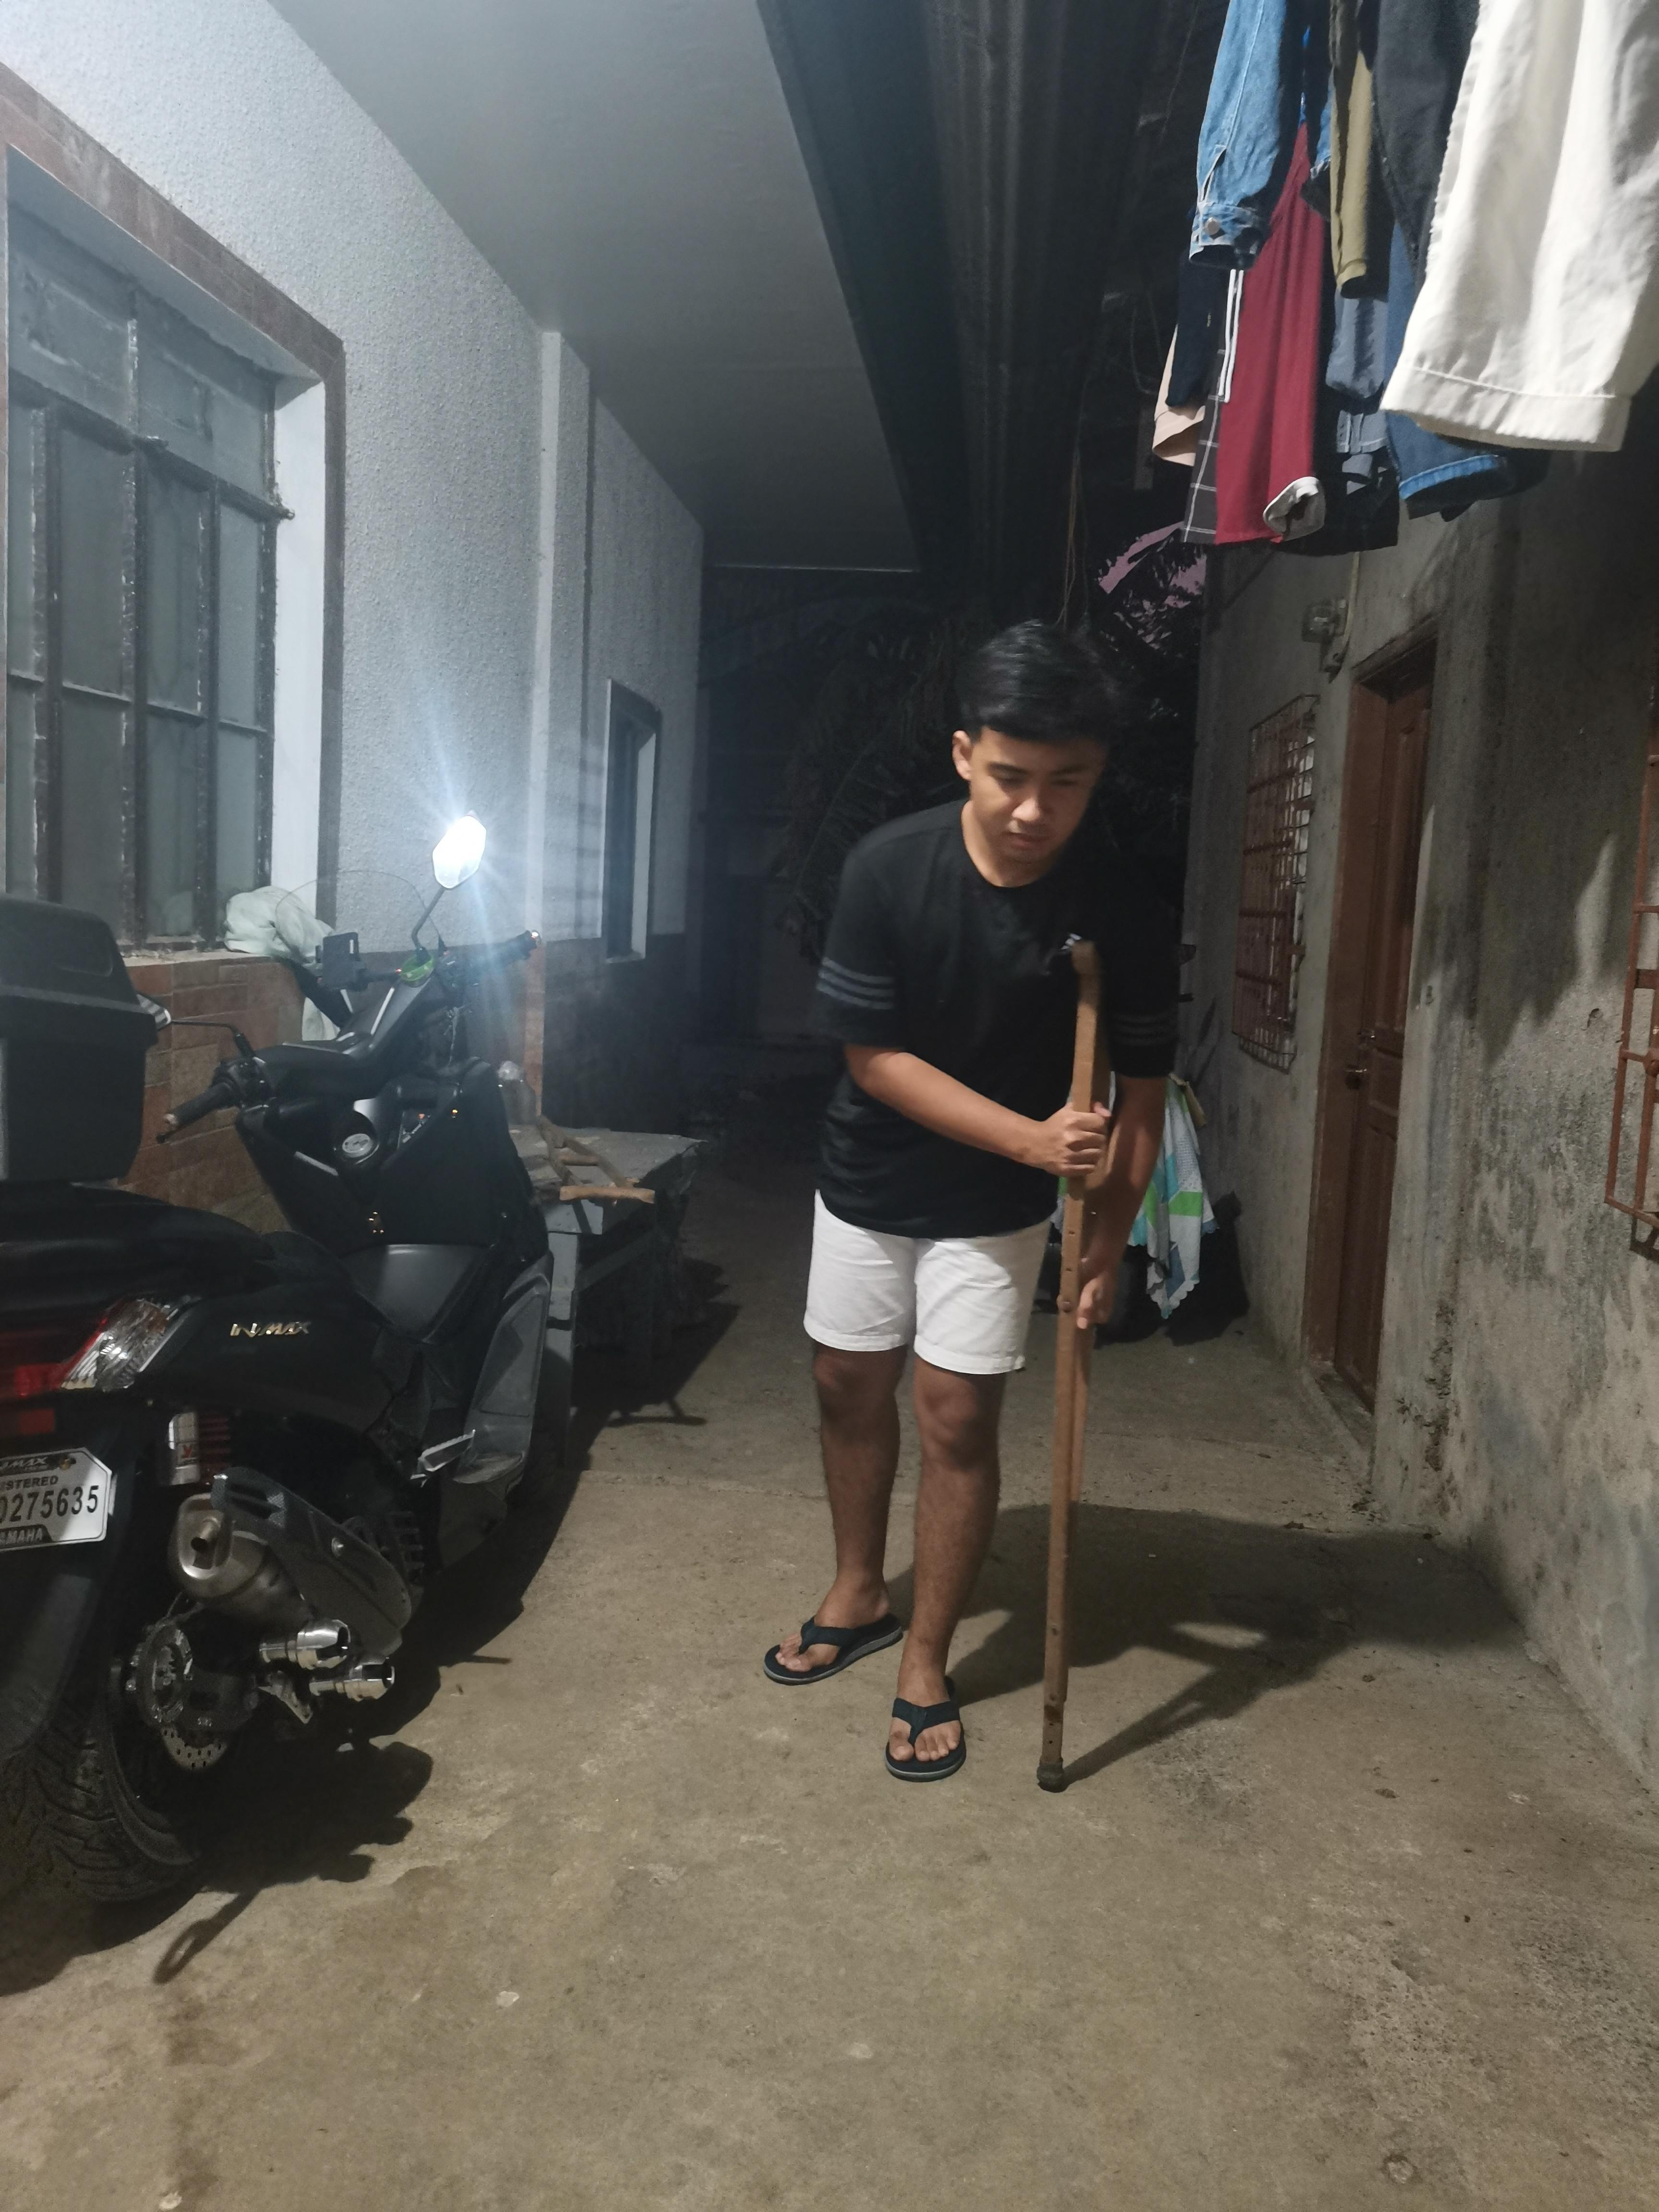crutches: (760, 627, 1182, 1794)
